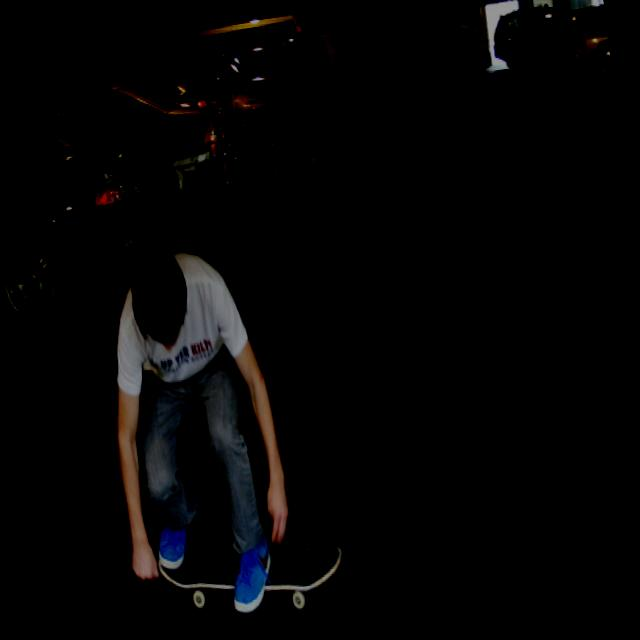Vehicle: (0, 54, 194, 317), (11, 66, 252, 272), (22, 28, 246, 167), (170, 31, 312, 192), (520, 6, 597, 100), (504, 5, 578, 70), (489, 3, 557, 69), (558, 3, 612, 84), (584, 0, 615, 102), (234, 38, 298, 82)
